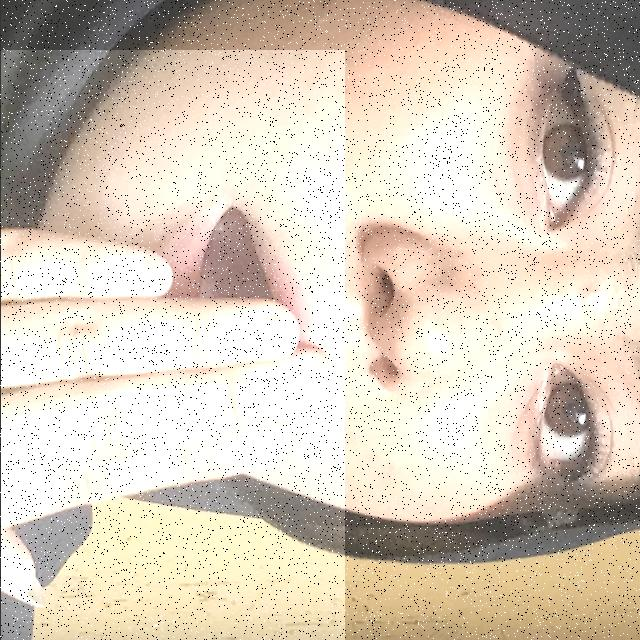ngantuk: (0, 50, 344, 640)
